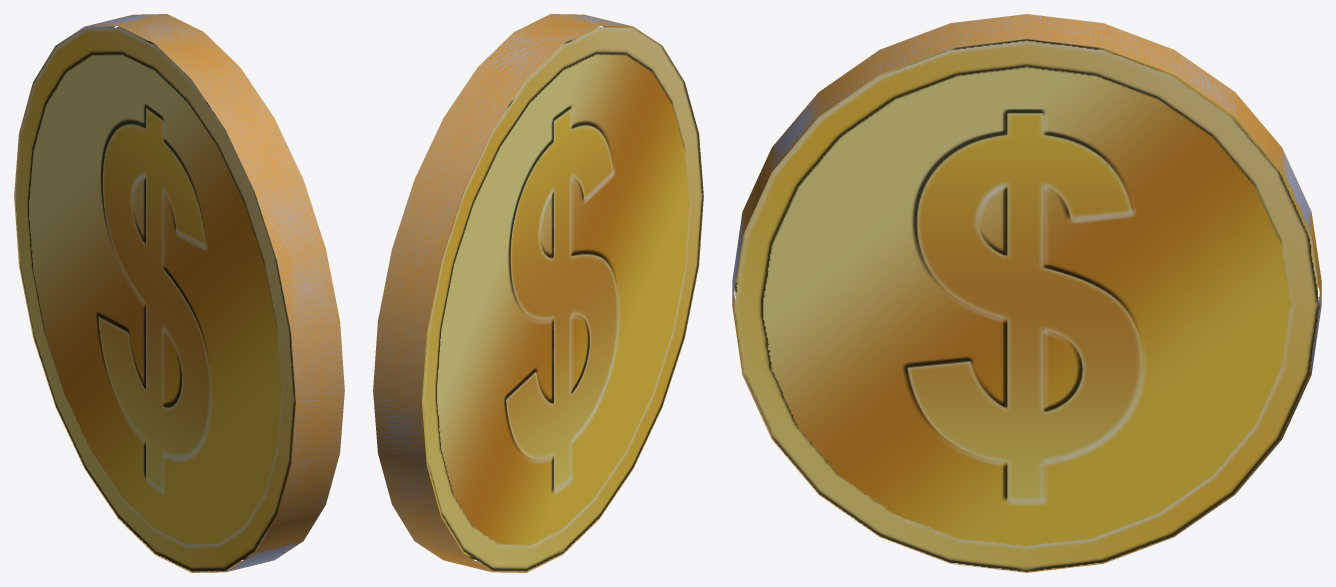
Rendered from coin.fbx.
3 views of the same model, side by side, from view 1: azimuth 30°, elevation 25°; view 2: azimuth 150°, elevation 25°; view 3: azimuth 270°, elevation 25° (orthographic). The views are drawn at different scales.
Visible parts, largest first — view 1: Model; view 2: Model; view 3: Model.
Boxes of the visible parts, x1,y1,x2,y2 form: Model: (14,14,344,572); Model: (373,14,703,572); Model: (732,14,1321,572).
Size of the model in its own units: 0.3 by 3 by 3.
